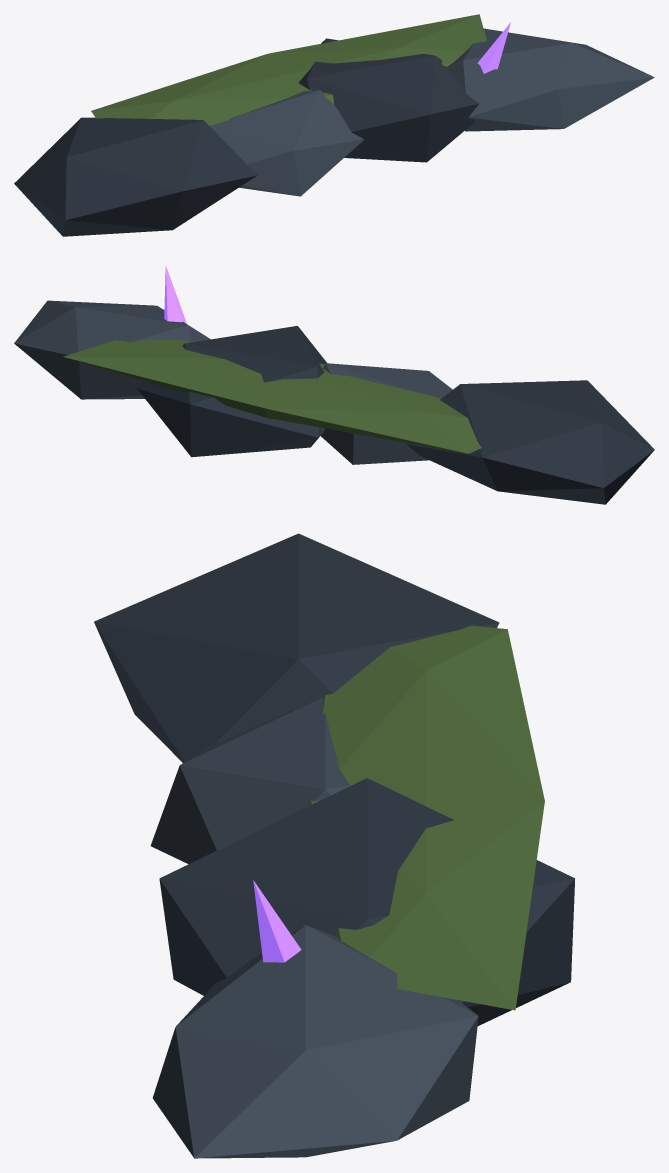
Rendered from shore_rock_2.glb.
3 renders of one model, top to bottom at view 1: azimuth 30°, elevation 25°; view 2: azimuth 150°, elevation 25°; view 3: azimuth 270°, elevation 25°, orthographic. The views are drawn at different scales.
Visible parts, largest first — view 1: shore_rock_2; view 2: shore_rock_2; view 3: shore_rock_2.
Boxes of the visible parts, x1=… form: shore_rock_2: x1=14, y1=14, x2=654, y2=236; shore_rock_2: x1=14, y1=265, x2=654, y2=504; shore_rock_2: x1=94, y1=533, x2=575, y2=1158.
Bounding box in the file's own units: 3.58 × 0.677 × 1.26.
